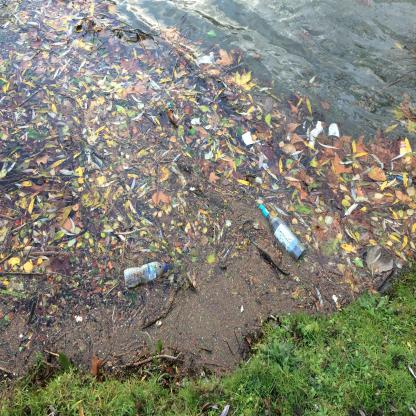cam: (258, 203, 306, 262)
plastik: (124, 261, 167, 288)
